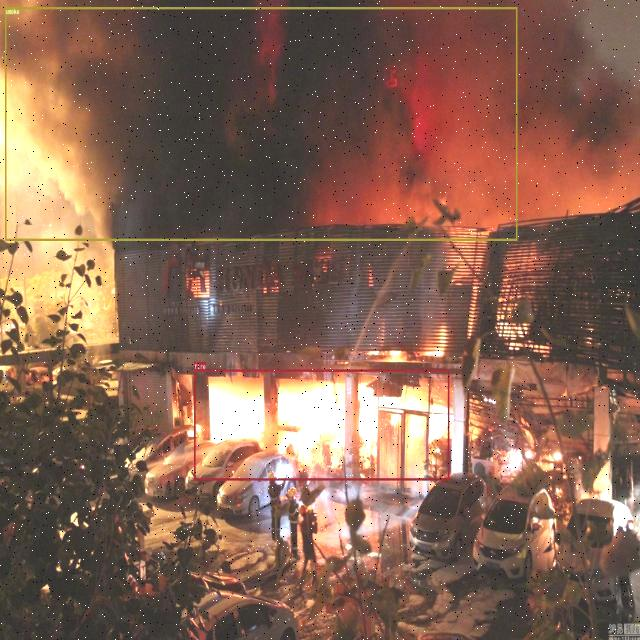fire: (194, 370, 449, 480)
smoke: (5, 7, 518, 240)
